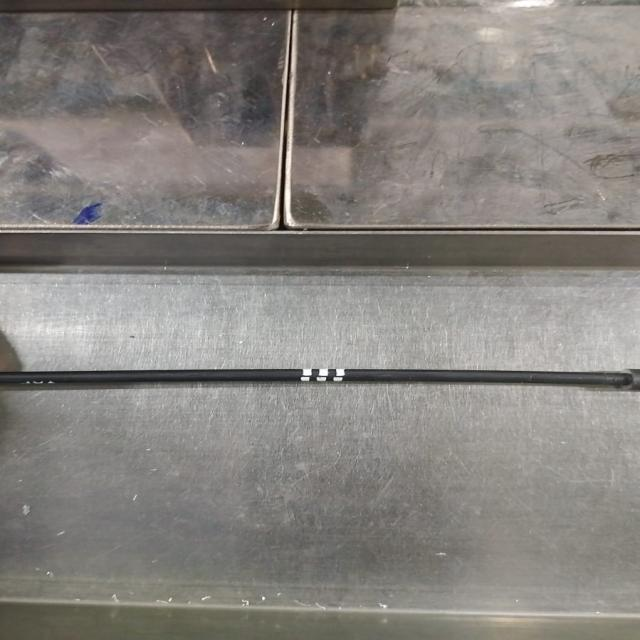white: (300, 368, 347, 382)
